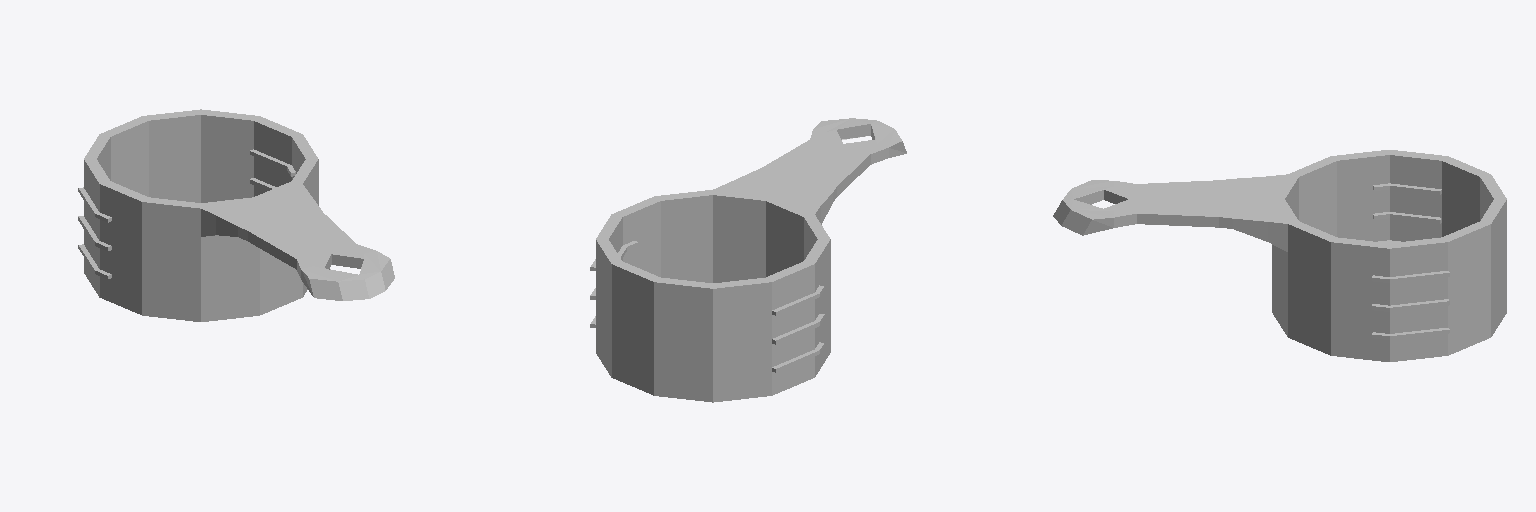
The model's file is measuringcups_single.obj.
3 views of the same model, side by side, from view 1: azimuth 30°, elevation 25°; view 2: azimuth 150°, elevation 25°; view 3: azimuth 270°, elevation 25° (orthographic).
Visible parts, largest first — view 1: pCylinder1 group2; view 2: pCylinder1 group2; view 3: pCylinder1 group2.
Boxes of the visible parts, box(x1,y1,x2,y2) form: pCylinder1 group2: box(78, 109, 394, 321); pCylinder1 group2: box(590, 118, 906, 402); pCylinder1 group2: box(1053, 150, 1506, 361).
Size of the model in its own units: 48.47 by 24.77 by 89.61.